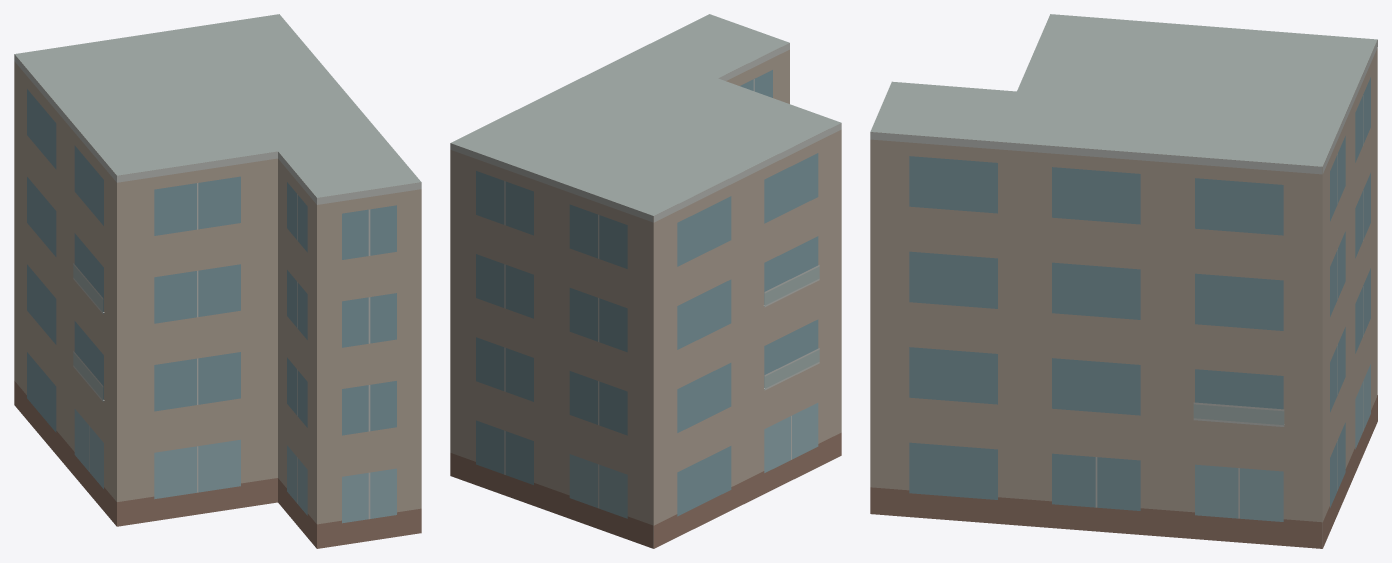
File: residential-2076e7b9-97a3-46d1-a6ca-17010fed5a96.glb
3 views of the same model, side by side, from view 1: azimuth 30°, elevation 25°; view 2: azimuth 150°, elevation 25°; view 3: azimuth 270°, elevation 25° (orthographic). The views are drawn at different scales.
Visible parts, largest first — view 1: residential-2076e7b9-97a3-46d1-a6ca-17010fed5a96.tmp; view 2: residential-2076e7b9-97a3-46d1-a6ca-17010fed5a96.tmp; view 3: residential-2076e7b9-97a3-46d1-a6ca-17010fed5a96.tmp.
Boxes of the visible parts, x1,y1,x2,y2 form: residential-2076e7b9-97a3-46d1-a6ca-17010fed5a96.tmp: [14, 14, 421, 548]; residential-2076e7b9-97a3-46d1-a6ca-17010fed5a96.tmp: [450, 14, 841, 548]; residential-2076e7b9-97a3-46d1-a6ca-17010fed5a96.tmp: [870, 14, 1377, 548].
Bounding box in the file's own units: 10.47 × 12.2 × 14.69.
